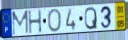3: (100, 4, 115, 30)
4: (65, 7, 77, 32)
H: (27, 9, 43, 35)
M: (11, 9, 30, 36)
O: (47, 8, 62, 33)
Q: (84, 6, 98, 31)
